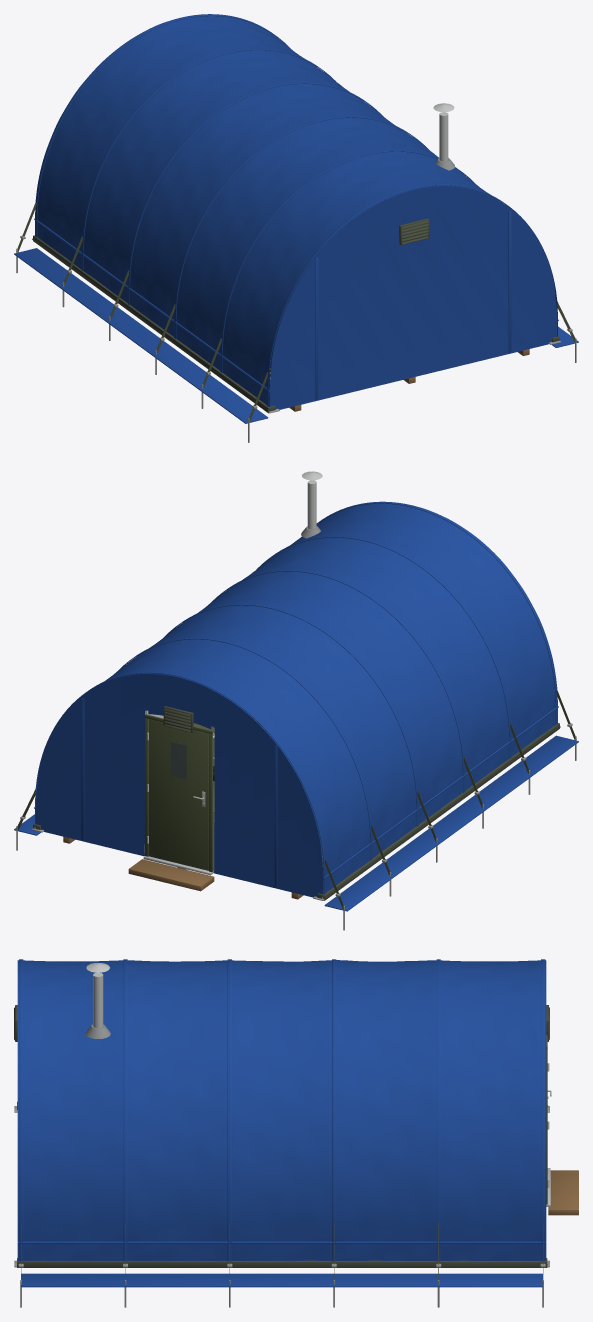
Rendered from polarhaven-deployed-fitted.glb.
The picture shows the model from 3 angles, top to bottom: view 1: azimuth 30°, elevation 25°; view 2: azimuth 150°, elevation 25°; view 3: azimuth 270°, elevation 25°; orthographic projection. The views are drawn at different scales.
Visible parts, largest first — view 1: POLARHAVEN_shelter; view 2: POLARHAVEN_shelter; view 3: POLARHAVEN_shelter.
Boxes of the visible parts, x1=… form: POLARHAVEN_shelter: x1=14, y1=14, x2=578, y2=442; POLARHAVEN_shelter: x1=14, y1=471, x2=578, y2=930; POLARHAVEN_shelter: x1=14, y1=959, x2=578, y2=1307.
Size of the model in its own units: 5.07 by 3.72 by 6.6.
41 materials, 8 textured.
